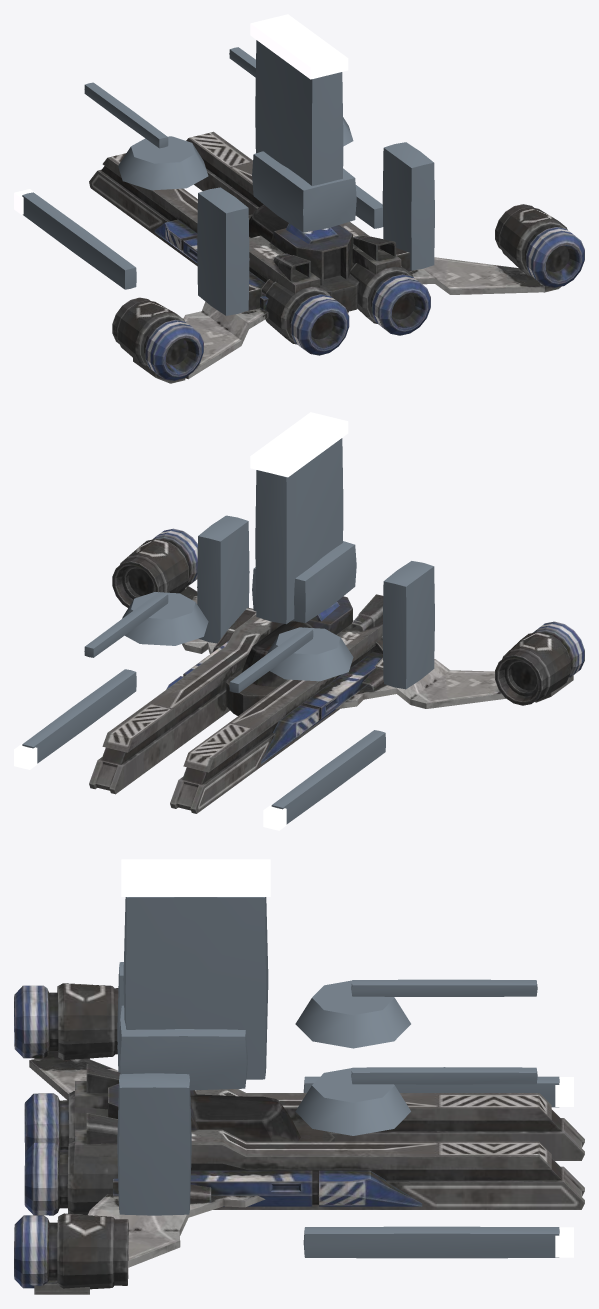
The model's file is enemy_boss.glb.
3 renders of one model, top to bottom at view 1: azimuth 30°, elevation 25°; view 2: azimuth 150°, elevation 25°; view 3: azimuth 270°, elevation 25°, orthographic. The views are drawn at different scales.
Visible parts, largest first — view 1: enemy_boss; view 2: enemy_boss; view 3: enemy_boss.
Part boxes in pixels (x1=…): enemy_boss: x1=14, y1=14, x2=584, y2=383; enemy_boss: x1=14, y1=412, x2=584, y2=830; enemy_boss: x1=14, y1=859, x2=584, y2=1294.
Size of the model in its own units: 1.5 by 0.8483 by 1.38.
3 materials, 1 textured.
